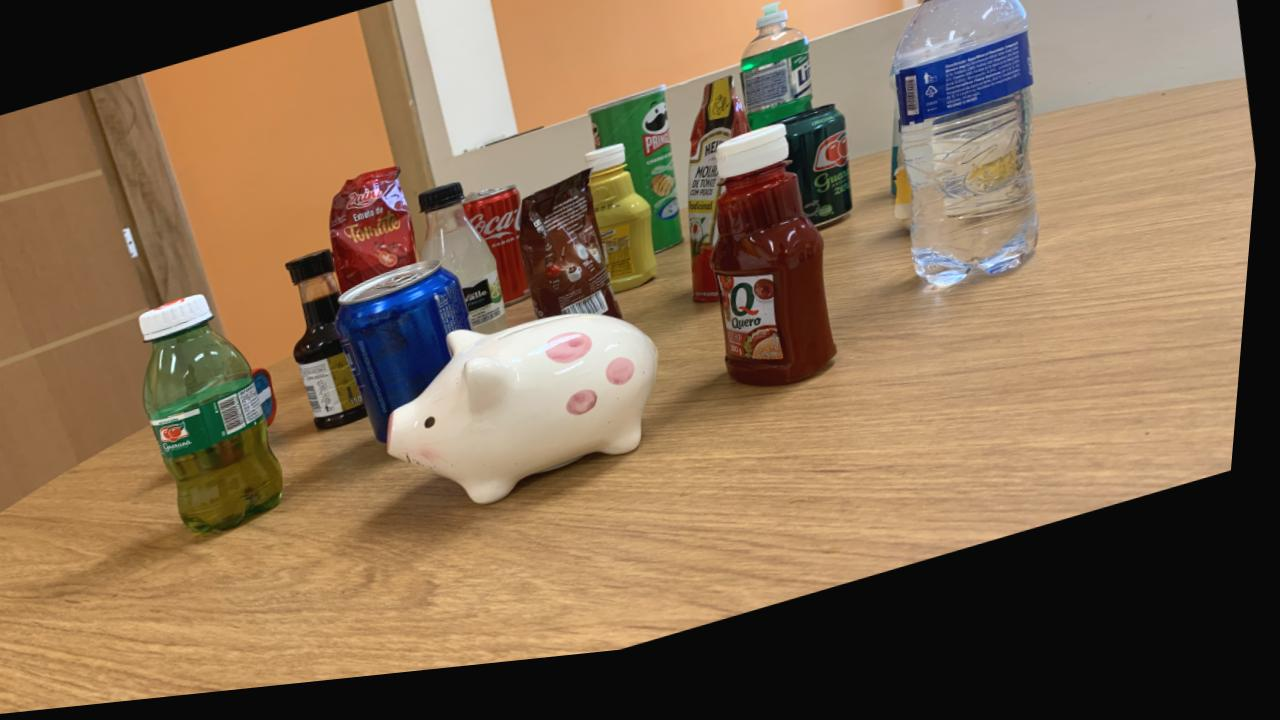Cleaner-Cleanup_Items: (894, 118, 905, 214), (890, 86, 900, 113)
Coffee-Pantry_Items: (523, 182, 628, 332)
Coke-Drinks: (468, 197, 537, 317)
Detergent-Cleanup_Items: (742, 19, 815, 146)
English_Sauce-Pantry_Items: (290, 257, 375, 437)
Guarana-Drinks: (145, 300, 292, 537)
Guarana_Can-Drinks: (780, 122, 858, 246)
Ketchup-Pantry_Items: (716, 140, 844, 403)
Mayonnaise-Pantry_Items: (896, 166, 918, 249)
Mustard-Pantry_Items: (588, 158, 662, 306)
Pig_Safe-Miscellaneous: (395, 326, 665, 515)
Pringles-Snacks: (592, 99, 687, 267)
Soda-Drinks: (423, 193, 513, 345)
Tomato_Sauce-Pantry_Items: (691, 91, 752, 317), (333, 174, 421, 298)
Tonic-Drinks: (341, 269, 477, 450)
Tuna_Can-Pantry_Items: (258, 374, 284, 431)
Water_Bottle-Drinks: (896, 0, 1045, 307)
